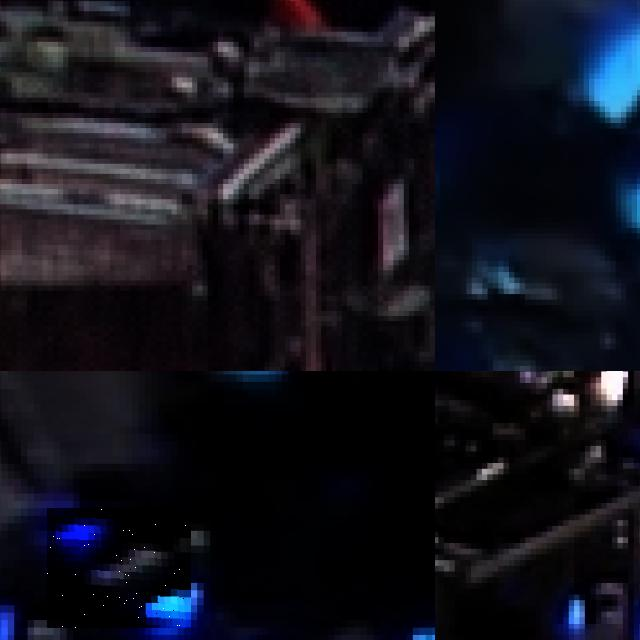B1: (47, 508, 191, 628), (0, 597, 118, 640)
